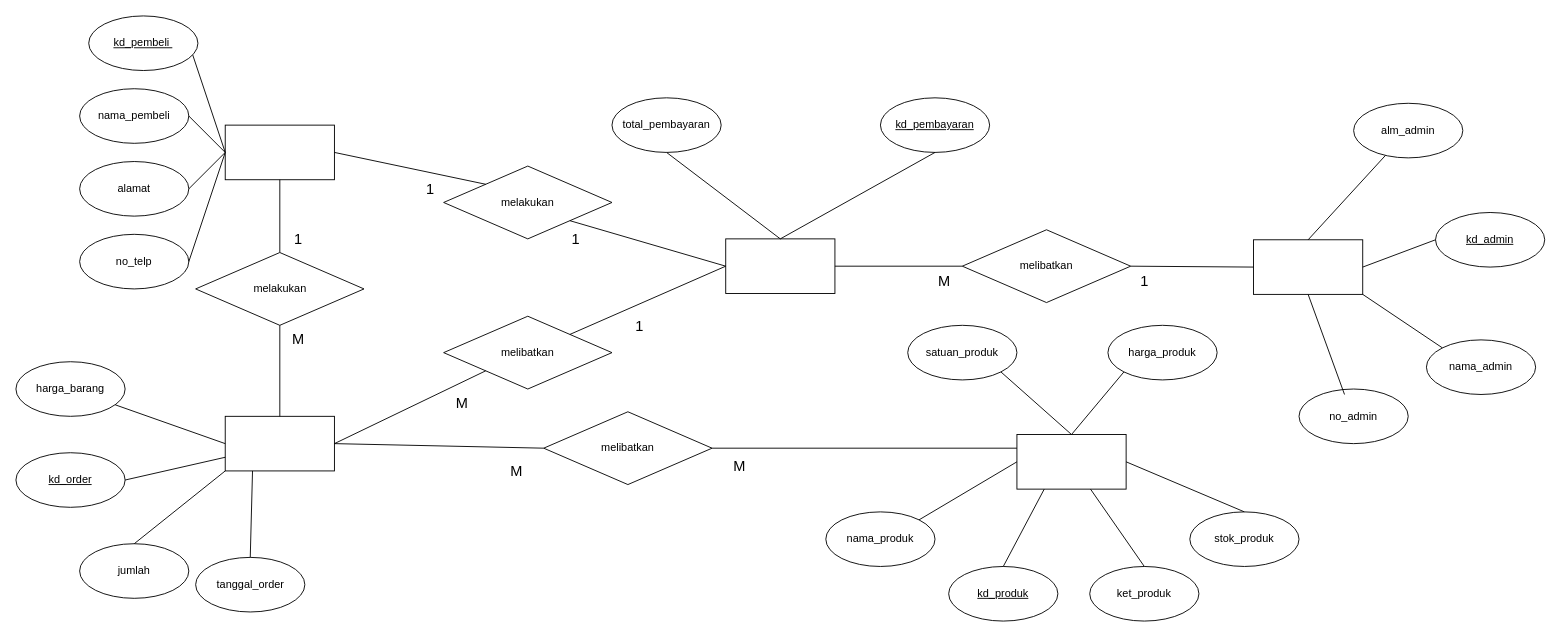
This 1561x637 diagram has some shape labels left out. The centre of each missing label's shape, as x and y in pixels:
admin: pixel 1308 266
order: pixel 279 443
pembayaran: pixel 780 265
pembeli: pixel 279 152
produk: pixel 1071 461
